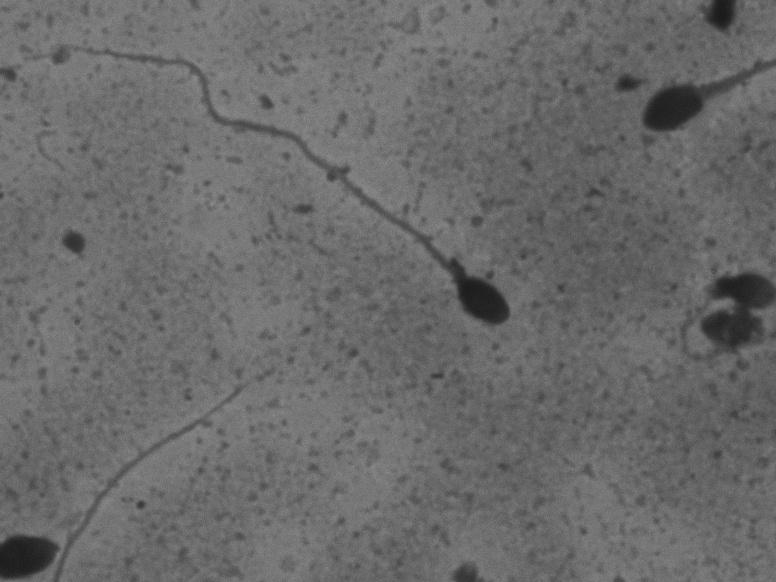Abnormal: (622, 17, 760, 177)
Normal: (36, 23, 528, 340)
